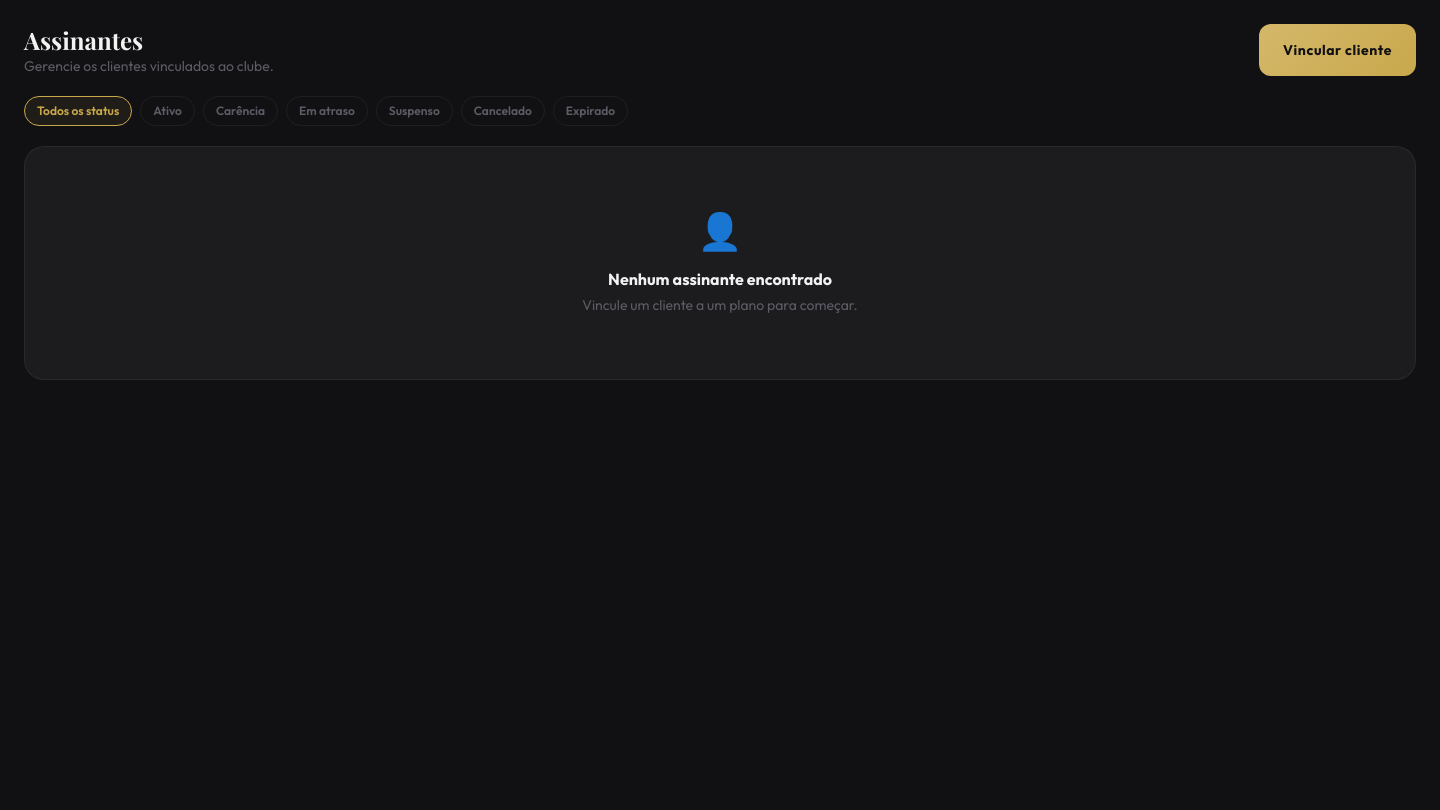
Test case: Fase 4 — UI do Plano Clube › 6. abre modal de vincular cliente ao clube
Click the button "Vincular cliente".
click(1338, 50)  # box x1=1259 y1=24 x2=1416 y2=76
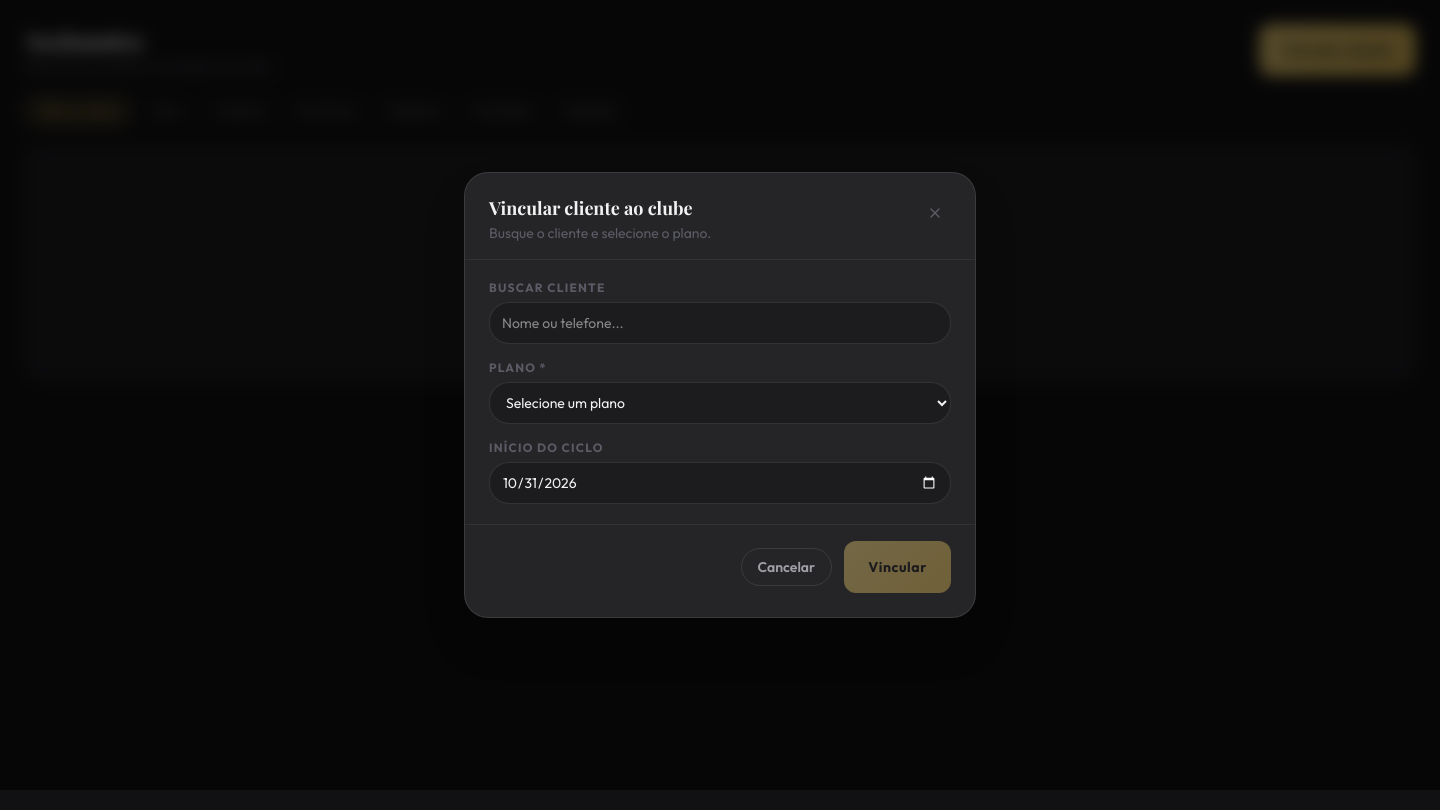
Check: the heading "Vincular cliente ao clube" is shown, box x1=489 y1=197 x2=711 y2=219
